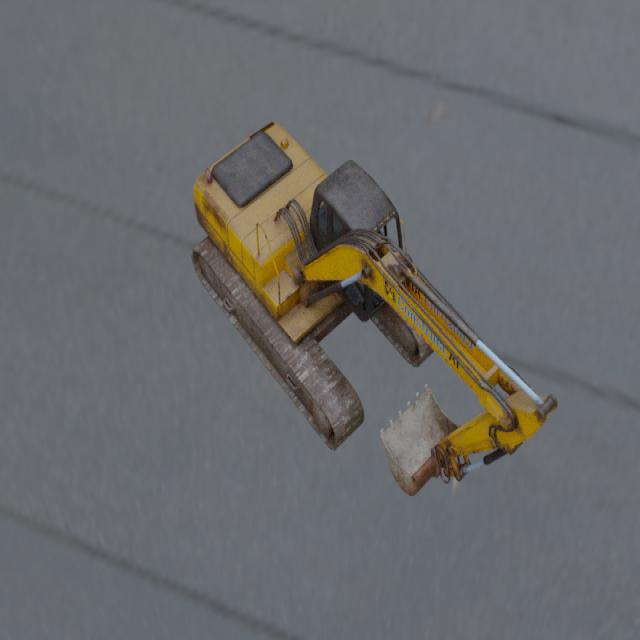excavator: (190, 121, 557, 496)
